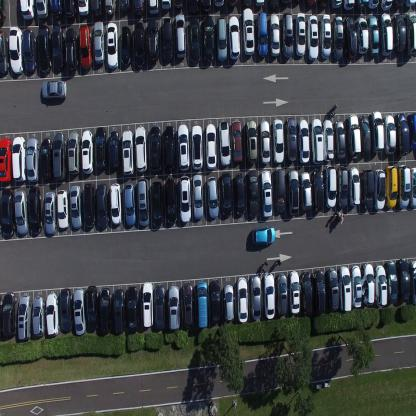car: (37, 22, 51, 74), (52, 131, 66, 182), (0, 187, 14, 237), (78, 24, 93, 70), (137, 177, 151, 226), (28, 186, 42, 235), (9, 26, 23, 75), (12, 135, 26, 183), (310, 117, 324, 165), (338, 265, 352, 312), (14, 189, 28, 235), (286, 169, 300, 215), (22, 28, 36, 74), (17, 294, 31, 340), (2, 292, 16, 338), (177, 123, 190, 172), (260, 169, 273, 218), (306, 13, 319, 62), (26, 137, 40, 182), (379, 11, 393, 56), (178, 174, 191, 222), (134, 125, 147, 173), (273, 166, 286, 214), (255, 10, 268, 58), (242, 8, 255, 56), (167, 284, 180, 332), (73, 288, 86, 336), (312, 270, 326, 314), (370, 109, 384, 153), (64, 27, 78, 71), (32, 294, 46, 338), (190, 124, 203, 171), (191, 173, 204, 220), (347, 113, 360, 160), (280, 11, 293, 58), (85, 284, 98, 331), (361, 262, 375, 305), (165, 177, 178, 223), (96, 184, 109, 230), (69, 184, 82, 230), (326, 266, 339, 312), (106, 22, 119, 68), (126, 286, 139, 332), (113, 288, 126, 334), (0, 135, 12, 184), (196, 280, 208, 329), (247, 169, 259, 218), (360, 167, 374, 209), (218, 121, 231, 166), (43, 190, 56, 235), (249, 274, 262, 319), (300, 271, 313, 316), (245, 119, 258, 164), (297, 119, 310, 164), (396, 112, 409, 157), (46, 292, 59, 337), (188, 16, 200, 64), (205, 122, 217, 170), (149, 124, 161, 172), (121, 128, 133, 176), (236, 276, 248, 324), (263, 272, 275, 320), (52, 22, 64, 70), (99, 287, 111, 335), (124, 182, 137, 226), (220, 172, 233, 216), (206, 175, 219, 219), (385, 260, 398, 304), (397, 258, 410, 302), (397, 164, 410, 208), (343, 15, 356, 59), (228, 15, 241, 59), (164, 124, 176, 171), (231, 119, 243, 165), (83, 182, 95, 228), (81, 129, 93, 175), (272, 118, 284, 164), (285, 117, 297, 163), (319, 13, 331, 59), (56, 188, 69, 230), (68, 131, 80, 176), (209, 279, 221, 324), (276, 272, 288, 317), (288, 270, 300, 315), (259, 119, 271, 164), (331, 15, 343, 60), (294, 12, 306, 57), (133, 22, 145, 67), (182, 283, 194, 328), (60, 288, 72, 333), (203, 14, 214, 63), (374, 265, 387, 306), (392, 14, 406, 52), (175, 12, 186, 60), (234, 172, 246, 216), (152, 180, 163, 228), (110, 182, 122, 226), (95, 126, 107, 170), (40, 137, 52, 181), (146, 18, 158, 62), (93, 20, 105, 64), (348, 166, 361, 206), (142, 280, 153, 327), (312, 168, 324, 211), (324, 165, 336, 208), (386, 165, 398, 208), (322, 119, 334, 162), (405, 11, 416, 57), (162, 17, 173, 63), (154, 284, 165, 330), (336, 165, 348, 207), (367, 14, 379, 56), (269, 12, 280, 57), (355, 16, 368, 54), (40, 80, 66, 99), (374, 169, 386, 210), (120, 25, 132, 66), (108, 130, 120, 170), (300, 170, 312, 210), (334, 118, 345, 160), (384, 113, 395, 155), (223, 284, 235, 322), (359, 115, 370, 155), (251, 226, 275, 244), (351, 264, 361, 307), (217, 15, 226, 61), (0, 31, 9, 74), (19, 0, 35, 20), (408, 111, 415, 150), (50, 0, 63, 21), (63, 0, 77, 19), (35, 0, 49, 19), (410, 261, 416, 304), (132, 0, 146, 18), (91, 0, 103, 19), (410, 166, 415, 210), (77, 0, 89, 18), (104, 0, 116, 17), (188, 0, 200, 14), (119, 0, 131, 14), (0, 0, 7, 24), (148, 0, 159, 15), (355, 0, 368, 12), (328, 0, 342, 11), (200, 0, 212, 12), (380, 0, 393, 11), (160, 0, 172, 11), (343, 0, 354, 11), (369, 0, 379, 11), (268, 0, 278, 10), (404, 0, 416, 8), (318, 0, 329, 8), (242, 0, 253, 8), (227, 0, 238, 8), (213, 0, 224, 8), (0, 294, 2, 338), (394, 0, 404, 8), (173, 0, 183, 8), (305, 0, 316, 7), (254, 0, 265, 7), (280, 0, 291, 6)
